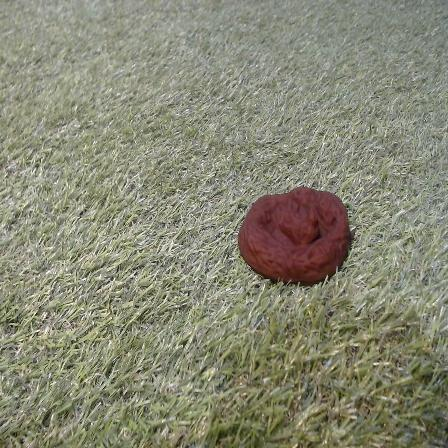dog-poop: (240, 185, 352, 276)
